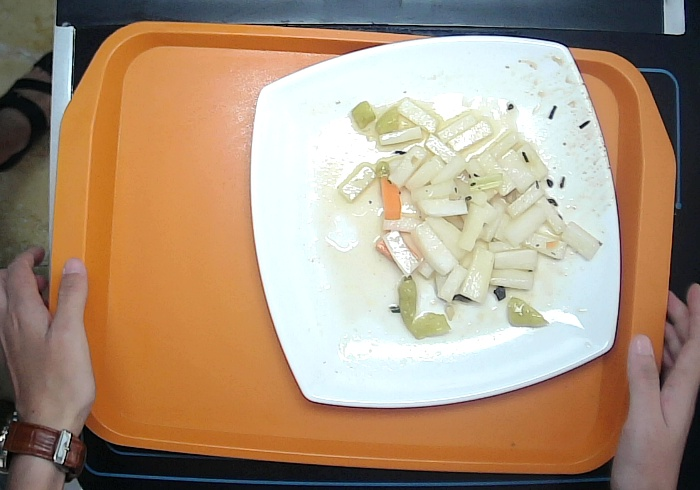ZNLD-Bai_Fang_Pan: (245, 33, 625, 412)
